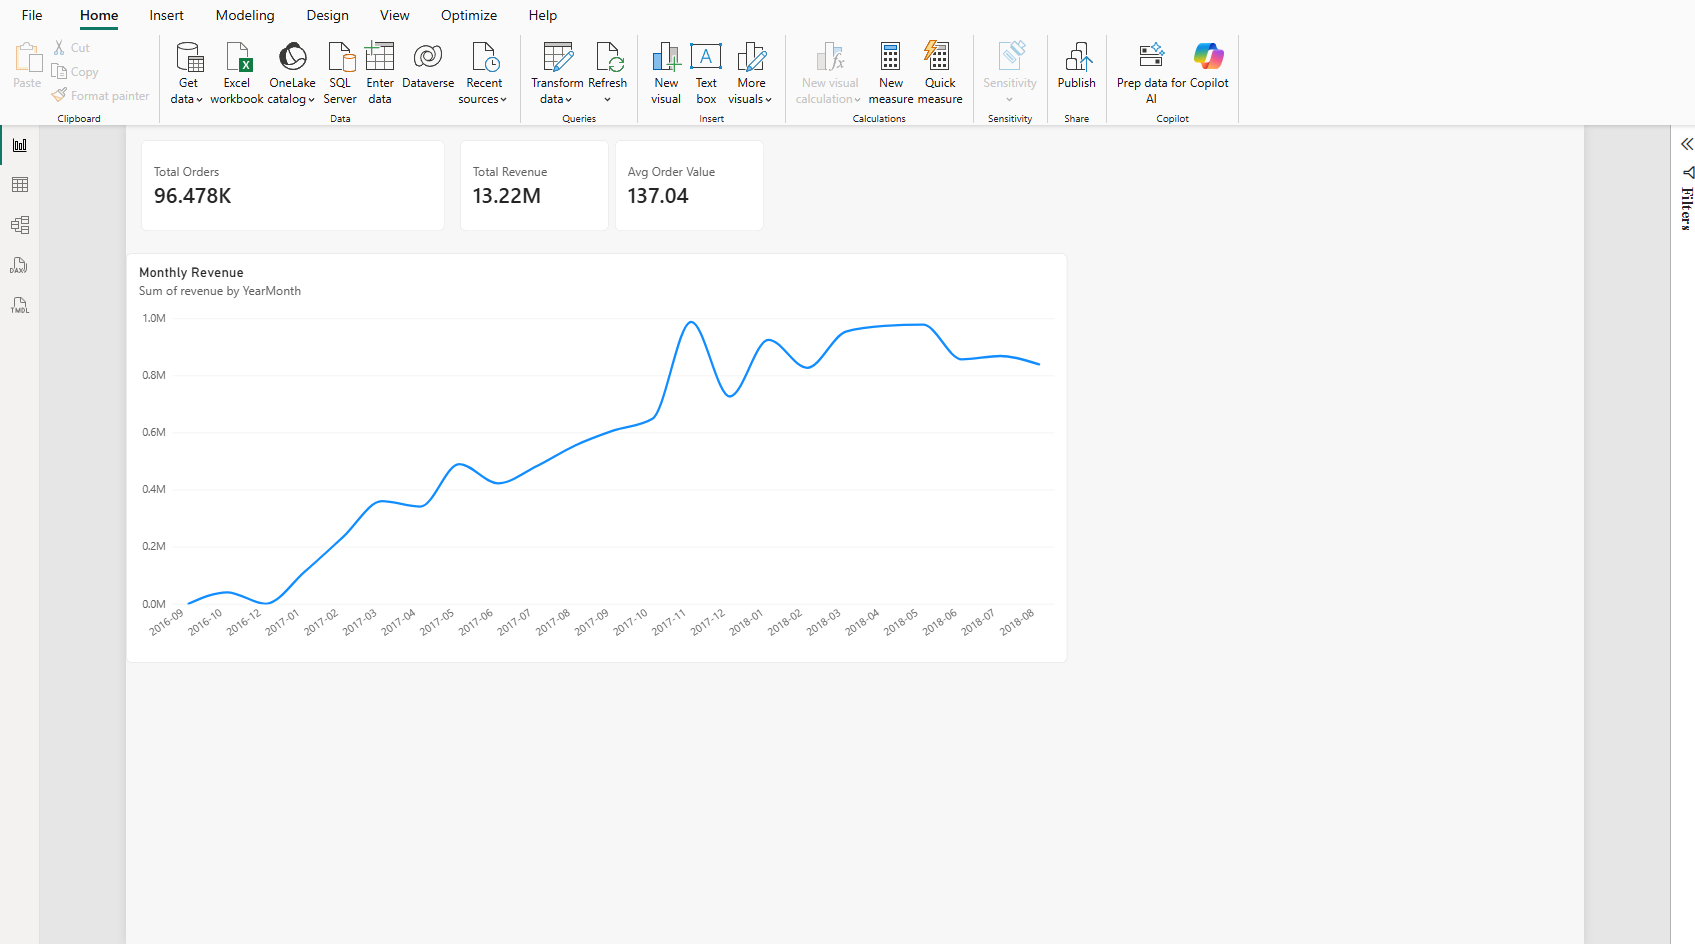

The page's visual inventory and layout, read from the dashboard file:
{"tool":"powerbi","page":{"name":"Overview","canvas":[1920,1080],"ordinal":0},"visuals":[{"type":"cardVisual","fields":{"Data":["fact_orders.Total Orders"]},"box":[20,20,400,120],"z":0},{"type":"cardVisual","fields":{"Data":["fact_orders.Total Revenue","fact_orders.Avg Order Value"]},"box":[440,20,400,120],"z":2},{"type":"lineChart","title":"Monthly Revenue","fields":{"Category":["vw_monthly_sales.YearMonth"],"Y":["Sum(vw_monthly_sales.revenue)"]},"box":[0,168.4,1240,540],"z":6}]}

Visuals, with their boxes on the page's 1920x1080 design canvas (x1, y1, x2, y2). These are canvas units, not pixel positions in the 1695x944 screenshot, which may show the page scaled, cropped or inside an application window:
cardVisual - fact_orders.Total Orders: bbox=[20, 20, 420, 140]
cardVisual - fact_orders.Total Revenue x fact_orders.Avg Order Value: bbox=[440, 20, 840, 140]
"Monthly Revenue" lineChart: bbox=[0, 168, 1240, 708]
